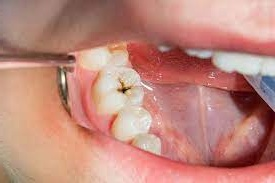Caries: (113, 74, 131, 99)
